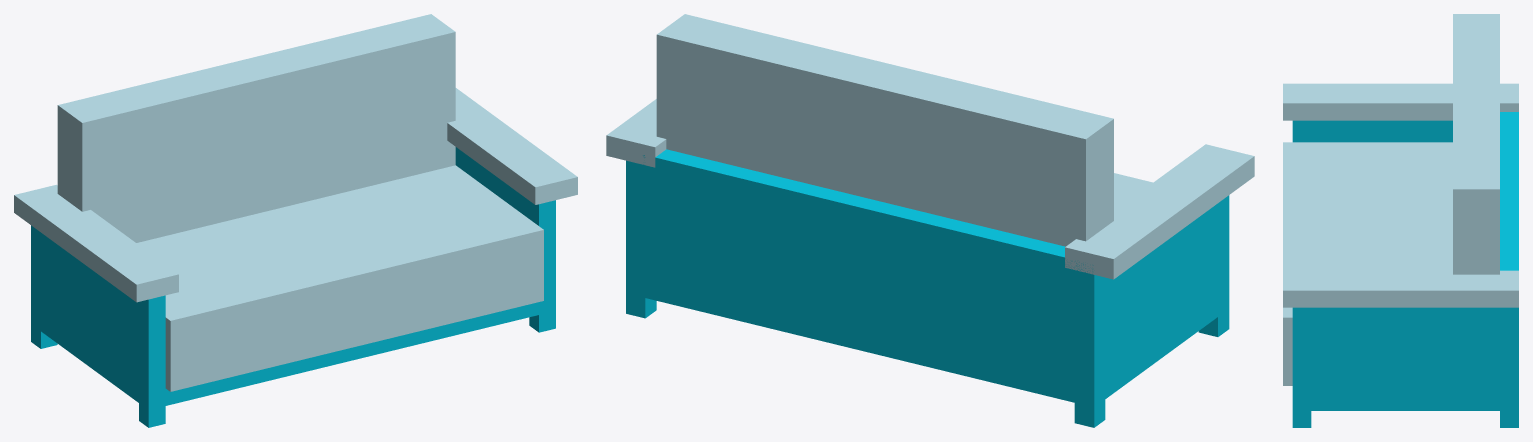
File: Two Seat Sofa.glb
3 renders of one model, left to right at view 1: azimuth 30°, elevation 25°; view 2: azimuth 150°, elevation 25°; view 3: azimuth 270°, elevation 25°, orthographic. The views are drawn at different scales.
Parts seen in each view (by area): view 1: Sofa Cushion Back 2, Sofa Sit Cushion 1, Sofa Cushion Back 1, Sofa Sit Cushion 2, Sofa Support Wall 3, Sofa Rest 2, Sofa Base Platform, Sofa Rest 1, Sofa Support Wall 1, Sofa Support Wall 2; view 2: Sofa Support Wall 2, Sofa Cushion Back 2, Sofa Cushion Back 1, Sofa Support Wall 3, Sofa Base Platform, Sofa Rest 2, Sofa Rest 1, Sofa Support Wall 1, Sofa Sit Cushion 2, Sofa Leg 3; view 3: Sofa Support Wall 1, Sofa Sit Cushion 2, Sofa Rest 1, Sofa Cushion Back 1, Sofa Sit Cushion 1, Sofa Rest 2, Sofa Cushion Back 2, Sofa Support Wall 2, Sofa Base Platform, Sofa Support Wall 3, Sofa Leg 1, Sofa Leg 2.
Boxes of the visible parts, bbox=[...] form: Sofa Cushion Back 2: bbox=[57, 59, 268, 242]; Sofa Sit Cushion 1: bbox=[269, 165, 543, 346]; Sofa Cushion Back 1: bbox=[245, 14, 455, 210]; Sofa Sit Cushion 2: bbox=[136, 211, 357, 391]; Sofa Support Wall 3: bbox=[31, 232, 165, 392]; Sofa Rest 2: bbox=[14, 184, 178, 302]; Sofa Base Platform: bbox=[31, 293, 555, 409]; Sofa Rest 1: bbox=[447, 88, 577, 204]; Sofa Support Wall 1: bbox=[455, 147, 555, 295]; Sofa Support Wall 2: bbox=[31, 225, 40, 313]; Sofa Support Wall 2: bbox=[626, 149, 1105, 386]; Sofa Cushion Back 2: bbox=[871, 66, 1113, 246]; Sofa Cushion Back 1: bbox=[656, 14, 898, 198]; Sofa Support Wall 3: bbox=[1074, 195, 1229, 386]; Sofa Base Platform: bbox=[626, 273, 1229, 407]; Sofa Rest 2: bbox=[1065, 144, 1254, 279]; Sofa Rest 1: bbox=[606, 99, 666, 167]; Sofa Support Wall 1: bbox=[626, 155, 645, 277]; Sofa Sit Cushion 2: bbox=[1114, 173, 1152, 210]; Sofa Leg 3: bbox=[1074, 400, 1105, 427]; Sofa Support Wall 1: bbox=[1292, 307, 1518, 393]; Sofa Sit Cushion 2: bbox=[1283, 142, 1452, 229]; Sofa Rest 1: bbox=[1283, 270, 1518, 307]; Sofa Cushion Back 1: bbox=[1453, 101, 1499, 274]; Sofa Sit Cushion 1: bbox=[1283, 230, 1452, 385]; Sofa Rest 2: bbox=[1283, 83, 1518, 120]; Sofa Cushion Back 2: bbox=[1453, 14, 1499, 101]; Sofa Support Wall 2: bbox=[1500, 112, 1518, 393]; Sofa Base Platform: bbox=[1292, 393, 1518, 410]; Sofa Support Wall 3: bbox=[1292, 120, 1452, 142]; Sofa Leg 1: bbox=[1292, 411, 1311, 427]; Sofa Leg 2: bbox=[1500, 411, 1518, 427].
Size of the model in its own units: 165 by 85.73 by 79.38.
